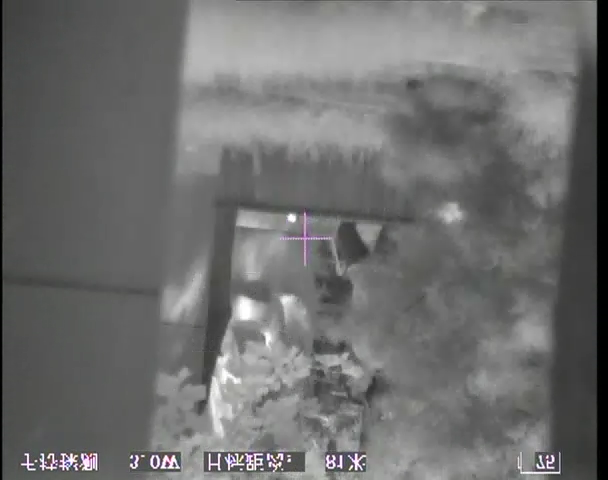my: (286, 212, 297, 223)
